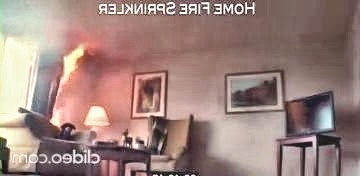fire: (52, 29, 106, 83)
